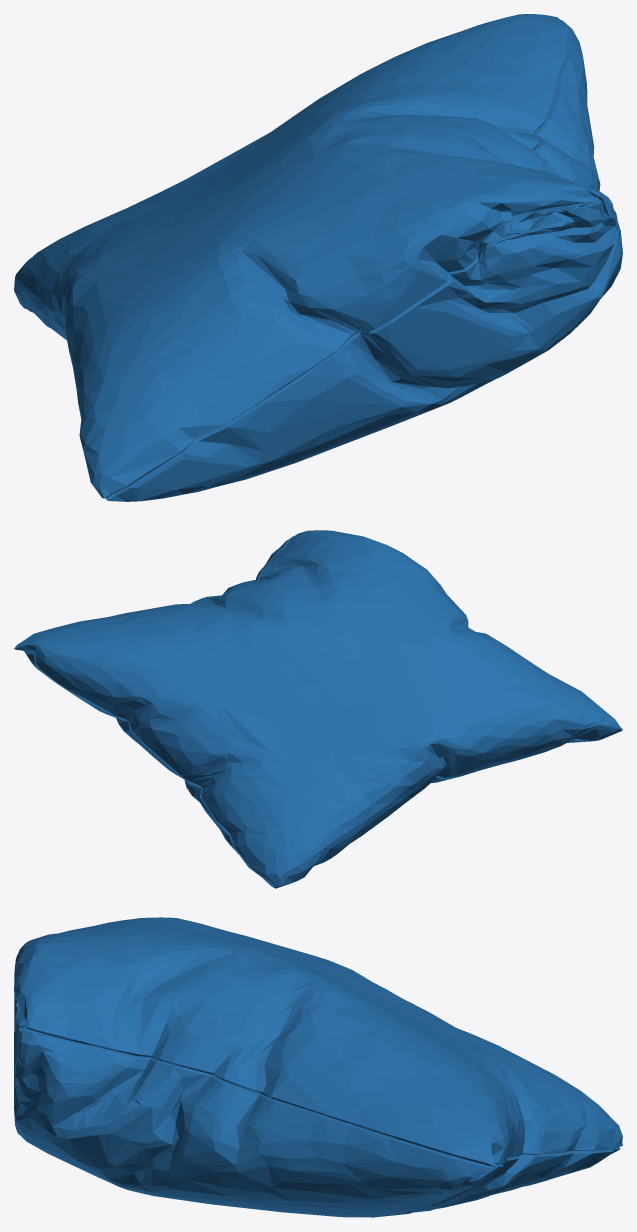
3 views of the same model, one above another, from view 1: azimuth 30°, elevation 25°; view 2: azimuth 150°, elevation 25°; view 3: azimuth 270°, elevation 25° (orthographic). The views are drawn at different scales.
Visible parts, largest first — view 1: world; view 2: world; view 3: world.
Boxes of the visible parts, x1,y1,x2,y2 form: world: (14, 14, 622, 501); world: (14, 530, 622, 888); world: (14, 917, 622, 1217).
Size of the model in its own units: 0.18 by 0.07 by 0.14.
